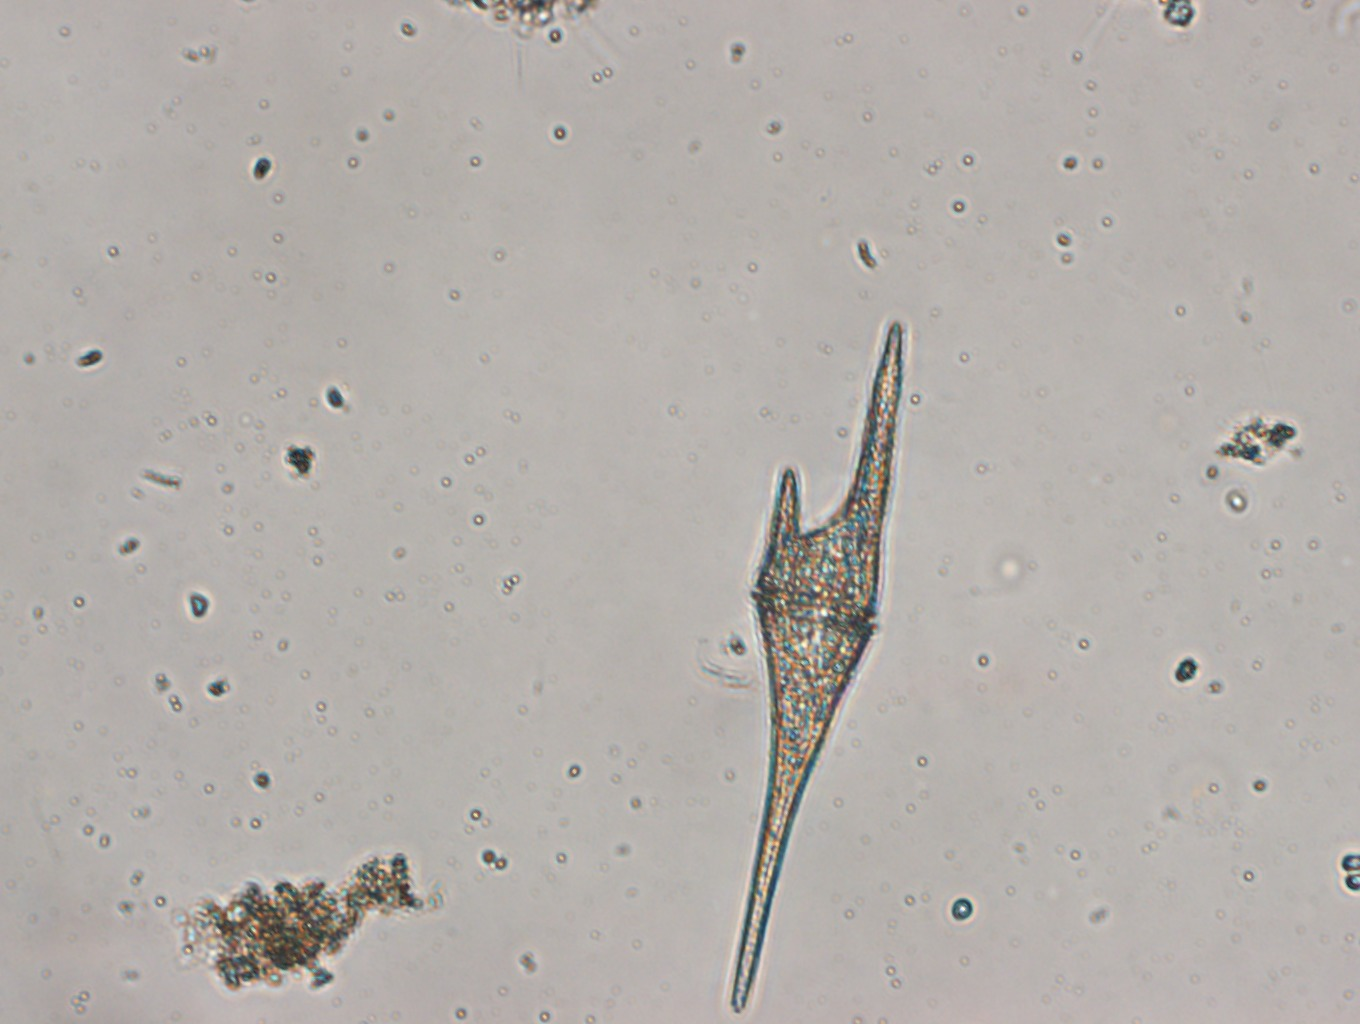ceratium furca: (728, 315, 910, 1015)
